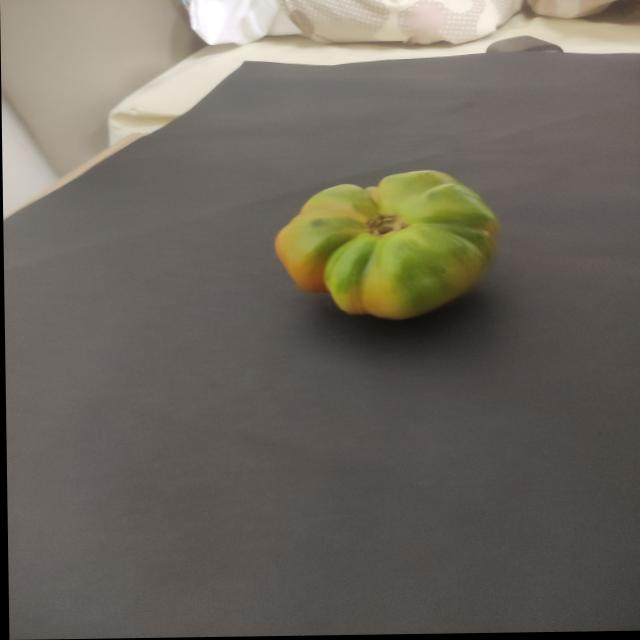yesil: (264, 162, 509, 326)
